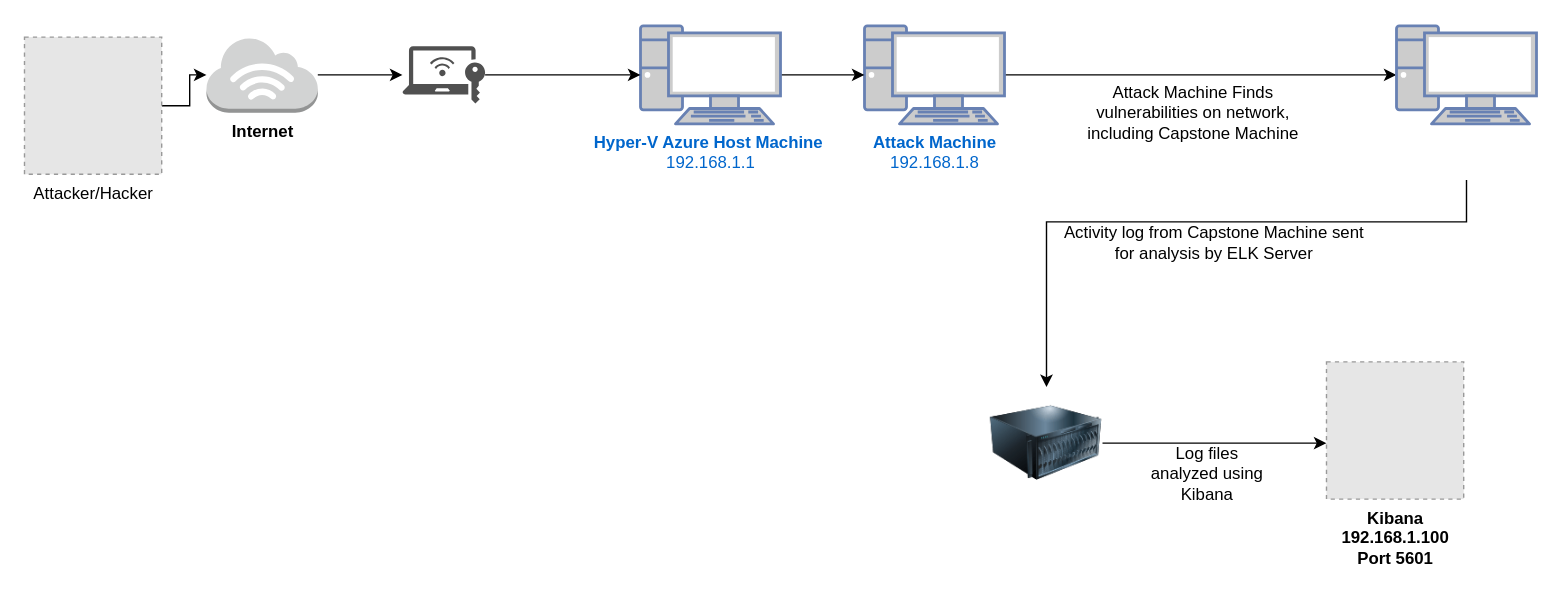
This 1565x592 diagram has some shape labels left out. Grey dashed boxes stand in for pictures. The shapes that lost their labels are listed below. From the top down, each one's centre as x and y in pixels, then its label:
pixel 443 74: Remote Desktop Connection
pixel 1465 74: Capstone Machine 192.168.1.105
pixel 1046 442: ELK Server 192.168.1.100
